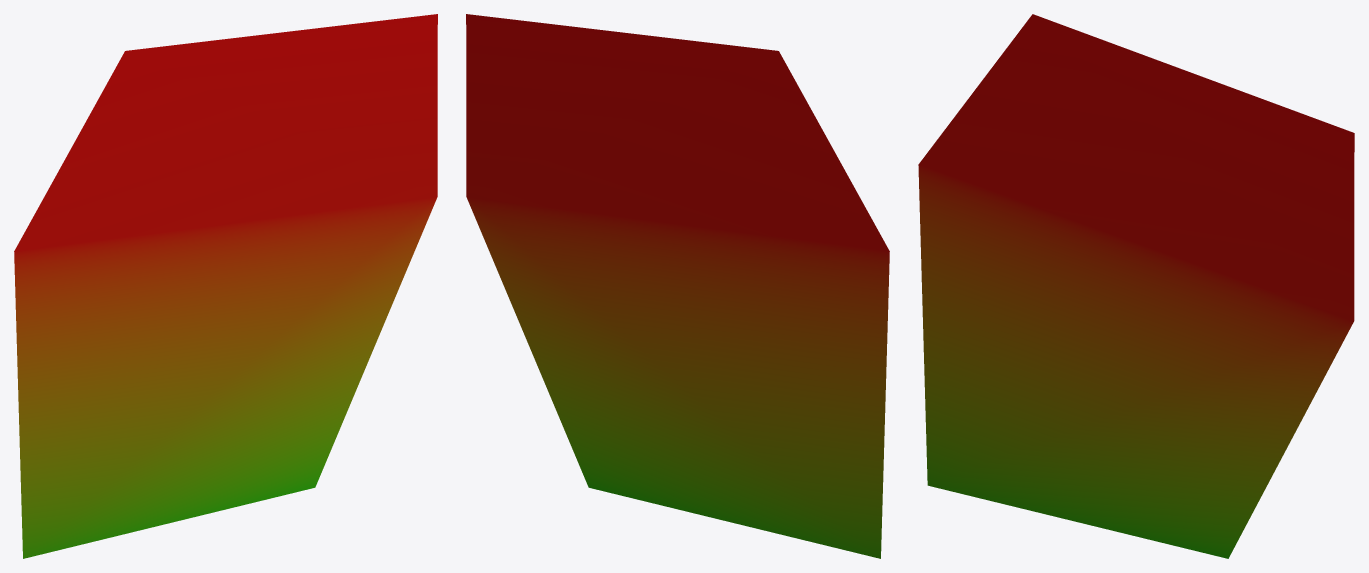
Rendered from Var3_LOD3.fbx.
The picture shows the model from 3 angles, left to right: view 1: azimuth 30°, elevation 25°; view 2: azimuth 150°, elevation 25°; view 3: azimuth 330°, elevation 25°; orthographic projection. The views are drawn at different scales.
Visible parts, largest first — view 1: _bd62_Var3_LOD3; view 2: _bd62_Var3_LOD3; view 3: _bd62_Var3_LOD3.
Part boxes in pixels (left/top/right/bottom): _bd62_Var3_LOD3: left=14, top=14, right=437, bottom=558; _bd62_Var3_LOD3: left=466, top=14, right=889, bottom=558; _bd62_Var3_LOD3: left=918, top=14, right=1354, bottom=558.
Bounding box in the file's own units: 176 × 191 × 1.24e-05.
